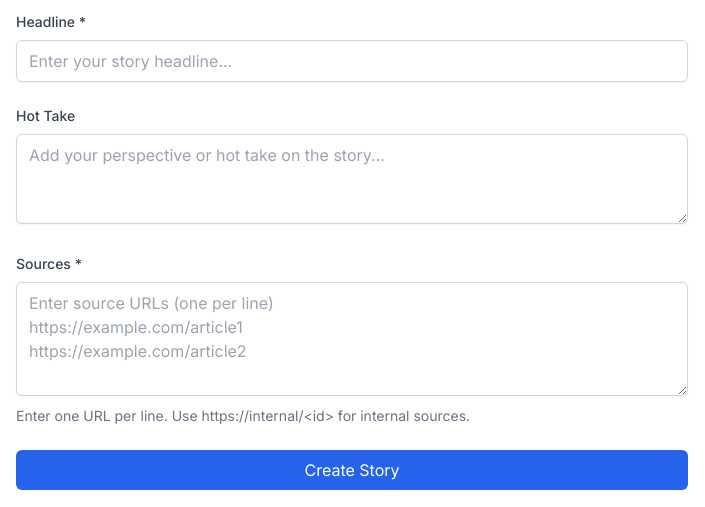
Scenario: StoryCreationForm › shows loading state during submission
In the field labelled "Headline *": (352, 61) [16, 40, 688, 82], type "Test Headline"
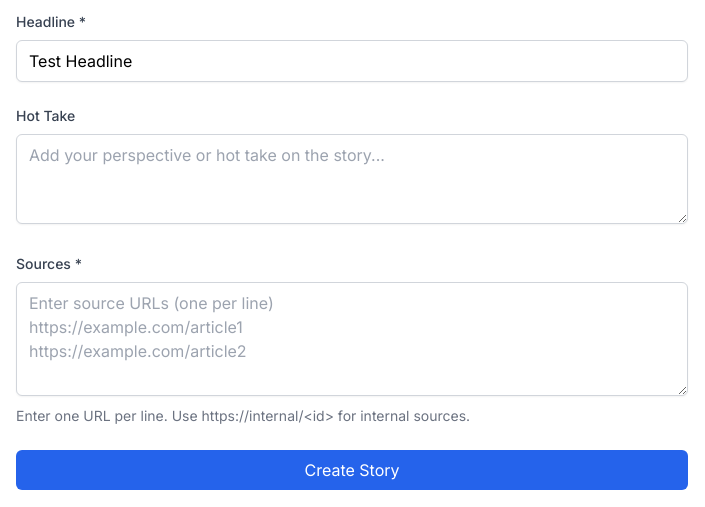
Replace the text in the text box labelled "Sources *" with "https://example.com/source1": (352, 339) [16, 282, 688, 396]
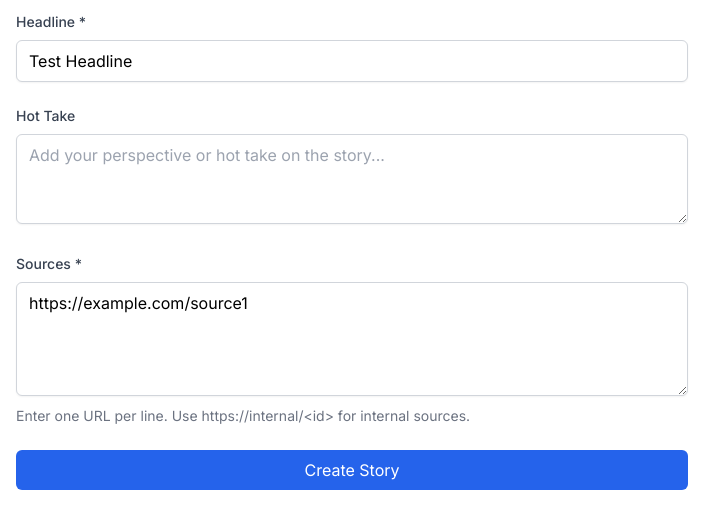
Click the button "Create Story": (352, 470) [16, 450, 688, 490]
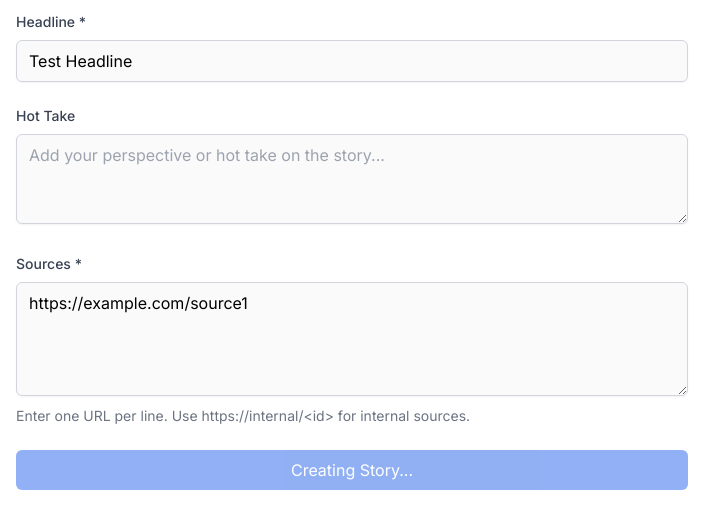
Expected: the button "Creating Story..." is disabled, [16, 450, 688, 490]
